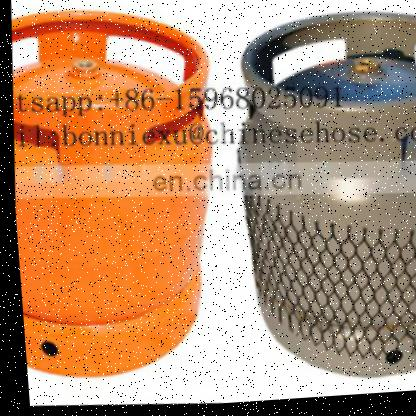gas-tank: (0, 0, 263, 415), (211, 0, 415, 404)
